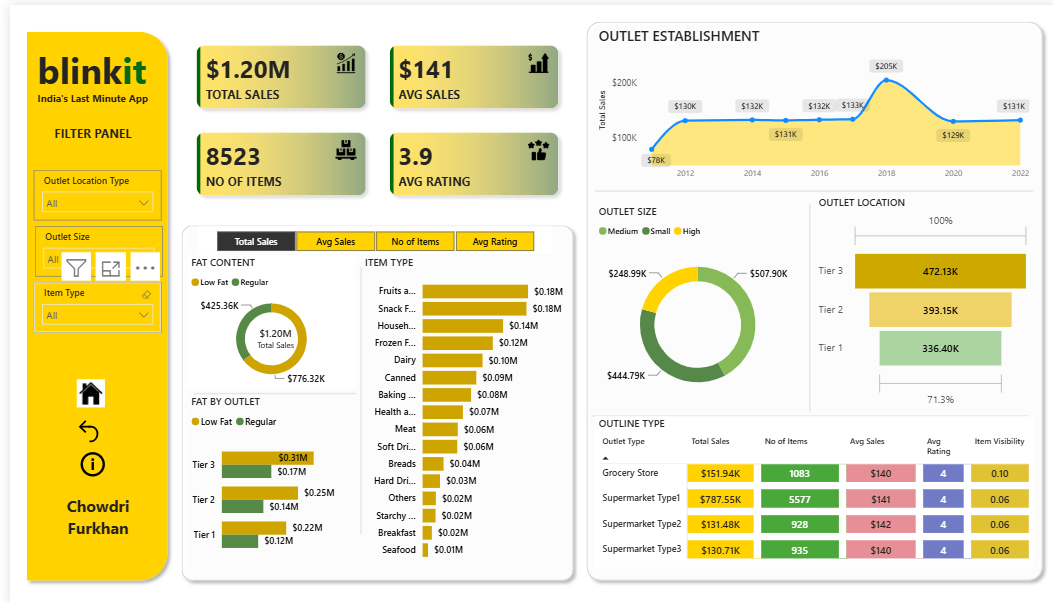

The page's visual inventory and layout, read from the dashboard file:
{"tool":"powerbi","page":{"name":"Page 1","canvas":[1400,800],"ordinal":0},"visuals":[{"type":"shape","box":[14,26,206,750],"z":0},{"type":"textbox","box":[32,48,170,76],"z":1000},{"type":"textbox","box":[32,110,166,28],"z":2000},{"type":"cardVisual","fields":{"Data":["BlinkIT Grocery Data.Total Sales","BlinkIT Grocery Data.Avg Sales","BlinkIT Grocery Data.No of Items","BlinkIT Grocery Data.Avg Rating"]},"box":[220,25.7,540,258.6],"z":3000},{"type":"shape","box":[220,284.3,540,491.4],"z":4000},{"type":"donutChart","title":"FAT CONTENT","fields":{"Y":["BlinkIT Grocery Data.Total Sales"],"Category":["BlinkIT Grocery Data.Item Fat Content"]},"box":[237.1,332.9,224.3,178.6],"z":5000},{"type":"slicer","fields":{"Values":["Metrics.Metrics"]},"box":[250,295.7,472.9,37.1],"z":6000},{"type":"cardVisual","fields":{"Data":["BlinkIT Grocery Data.Total Sales"]},"box":[301.4,412.9,105.7,62.9],"z":7000},{"type":"clusteredBarChart","title":"FAT BY OUTLET","fields":{"Y":["BlinkIT Grocery Data.Total Sales"],"Series":["BlinkIT Grocery Data.Item Fat Content"],"Category":["BlinkIT Grocery Data.Outlet Location Type"]},"box":[237.1,518.6,220,231.4],"z":8000},{"type":"shape","box":[245.7,511.4,215.7,12.9],"z":9000},{"type":"shape","box":[461.4,350,12.9,355.7],"z":10000},{"type":"barChart","title":"ITEM TYPE","fields":{"Y":["BlinkIT Grocery Data.Total Sales"],"Category":["BlinkIT Grocery Data.Item Type"]},"box":[468.6,332.9,274.3,417.1],"z":11000},{"type":"shape","box":[760,12.9,625.7,762.9],"z":12000},{"type":"lineChart","title":"OUTLET ESTABLISHMENT","fields":{"Category":["BlinkIT Grocery Data.Outlet Establishment Year"],"Y":["BlinkIT Grocery Data.Total Sales"]},"box":[780,28.6,584.3,212.9],"z":13000},{"type":"shape","box":[780,241.4,584.3,12.9],"z":14000},{"type":"donutChart","title":"OUTLET SIZE","fields":{"Y":["BlinkIT Grocery Data.Total Sales"],"Category":["BlinkIT Grocery Data.Outlet Size"]},"box":[780,264.3,274.3,277.1],"z":15000},{"type":"shape","box":[1060,264.3,12.9,277.1],"z":16000},{"type":"funnel","title":"OUTLET LOCATION","fields":{"Y":["Sum(BlinkIT Grocery Data.Sales)"],"Category":["BlinkIT Grocery Data.Outlet Location Type"]},"box":[1072.9,252.9,291.4,288.6],"z":17000},{"type":"shape","box":[774.3,541.4,584.3,12.9],"z":18000},{"type":"pivotTable","title":"OUTLINE TYPE","fields":{"Rows":["BlinkIT Grocery Data.Outlet Type"],"Values":["BlinkIT Grocery Data.Total Sales","BlinkIT Grocery Data.No of Items","BlinkIT Grocery Data.Avg Sales","BlinkIT Grocery Data.Avg Rating","Avg(BlinkIT Grocery Data.Item Visibility)"]},"box":[780,548.6,584.3,201.4],"z":19000},{"type":"slicer","fields":{"Values":["BlinkIT Grocery Data.Outlet Location Type"]},"box":[31.4,220,170,67.1],"z":20000},{"type":"slicer","fields":{"Values":["BlinkIT Grocery Data.Outlet Size"]},"box":[32.9,295.7,170,67.1],"z":21000},{"type":"slicer","fields":{"Values":["BlinkIT Grocery Data.Item Type"]},"box":[31.4,370,170,67.1],"z":22000},{"type":"textbox","box":[40,155.7,141.4,32.9],"z":23000},{"type":"actionButton","box":[84.3,577.1,50,71.4],"z":24000},{"type":"actionButton","box":[84.3,495.7,50,45.7],"z":25000},{"type":"actionButton","box":[84.3,548.6,50,40],"z":26000},{"type":"textbox","box":[40,648.3,155,71.7],"z":27000}]}

Visuals, with their boxes in screenshot pixels (x1, y1, x2, y2), scaled from the page's 1400x800 canvas onto the 1053x602 screenshot:
shape: 11/20/165/584
textbox: 24/36/152/93
textbox: 24/83/149/104
cardVisual - BlinkIT Grocery Data.Total Sales x BlinkIT Grocery Data.Avg Sales: 165/19/572/214
shape: 165/214/572/584
"FAT CONTENT" donutChart: 178/251/347/385
slicer - Metrics.Metrics: 188/223/544/250
cardVisual - BlinkIT Grocery Data.Total Sales: 227/311/306/358
"FAT BY OUTLET" clusteredBarChart: 178/390/344/564
shape: 185/385/347/395
shape: 347/263/357/531
"ITEM TYPE" barChart: 352/251/559/564
shape: 572/10/1042/584
"OUTLET ESTABLISHMENT" lineChart: 587/22/1026/182
shape: 587/182/1026/191
"OUTLET SIZE" donutChart: 587/199/793/407
shape: 797/199/807/407
"OUTLET LOCATION" funnel: 807/190/1026/407
shape: 582/407/1022/417
"OUTLINE TYPE" pivotTable: 587/413/1026/564
slicer - BlinkIT Grocery Data.Outlet Location Type: 24/166/151/216
slicer - BlinkIT Grocery Data.Outlet Size: 25/223/153/273
slicer - BlinkIT Grocery Data.Item Type: 24/278/151/329
textbox: 30/117/136/142
actionButton: 63/434/101/488
actionButton: 63/373/101/407
actionButton: 63/413/101/443
textbox: 30/488/147/542
